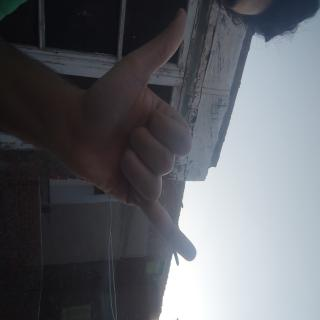YA: (0, 160, 202, 320)
